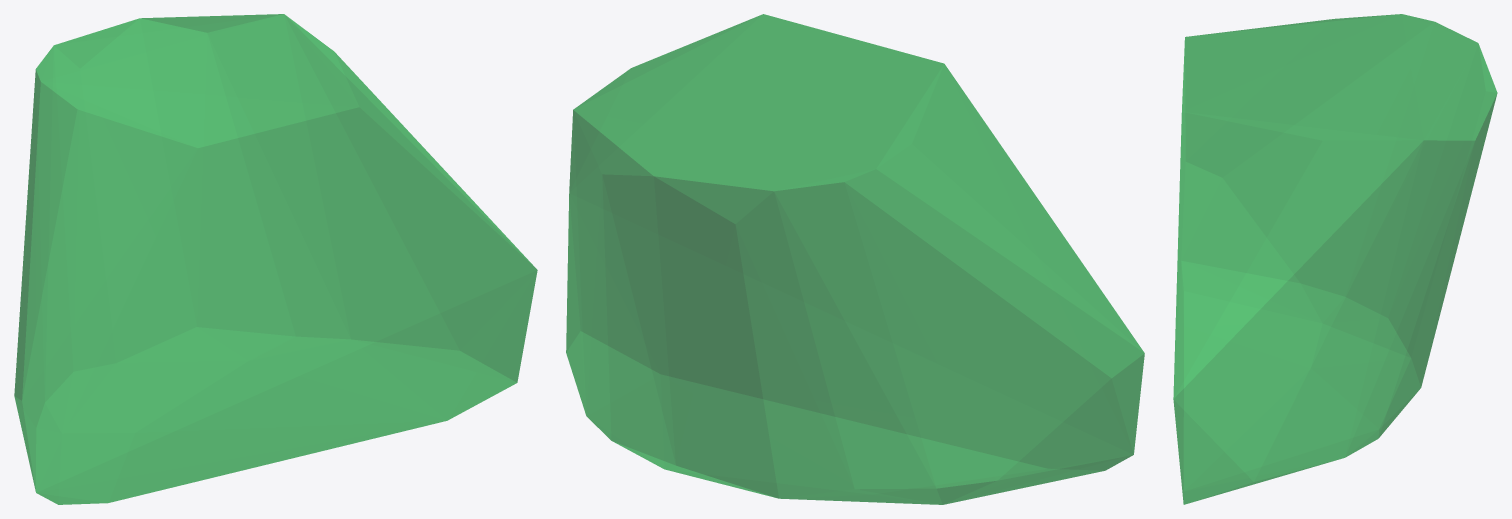
The picture shows the model from 3 angles, left to right: view 1: azimuth 30°, elevation 25°; view 2: azimuth 150°, elevation 25°; view 3: azimuth 270°, elevation 25°; orthographic projection. The views are drawn at different scales.
Visible parts, largest first — view 1: Shape_IndexedFaceSet.001_Shape_IndexedFaceSet.16771; view 2: Shape_IndexedFaceSet.001_Shape_IndexedFaceSet.16771; view 3: Shape_IndexedFaceSet.001_Shape_IndexedFaceSet.16771.
Part boxes in pixels (x1,y1,x2,y2): Shape_IndexedFaceSet.001_Shape_IndexedFaceSet.16771: [14, 14, 537, 504]; Shape_IndexedFaceSet.001_Shape_IndexedFaceSet.16771: [566, 14, 1144, 504]; Shape_IndexedFaceSet.001_Shape_IndexedFaceSet.16771: [1173, 14, 1497, 504].
Bounding box in the file's own units: 0.36 × 0.2269 × 0.1981.
